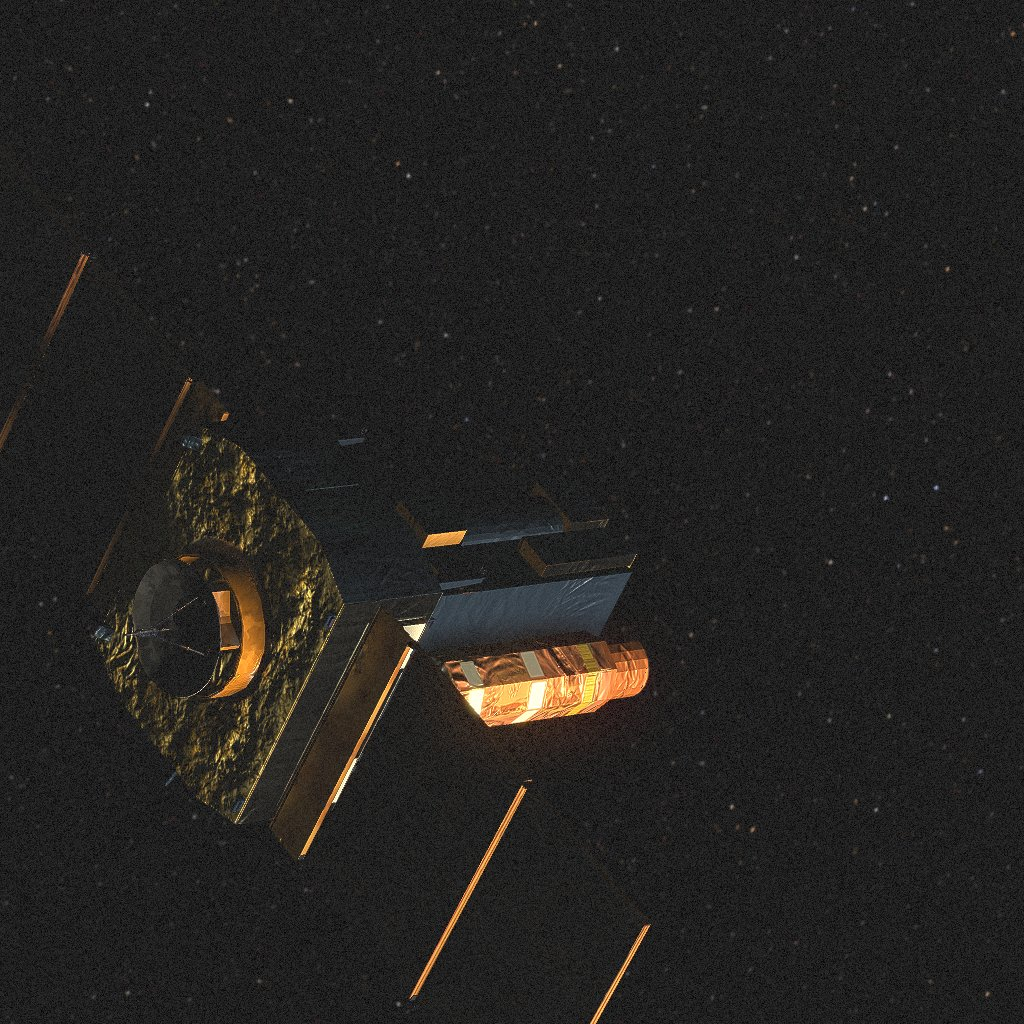soho: (0, 142, 651, 1024)
